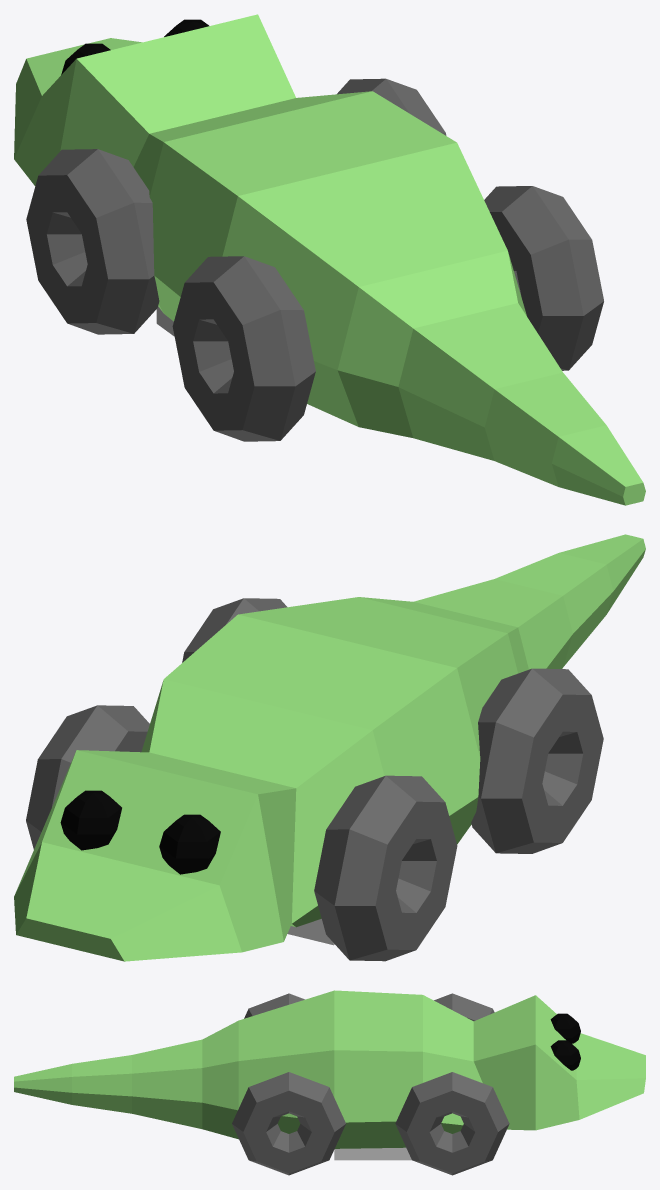
Rendered from lizard.gltf.
3 views of the same model, one above another, from view 1: azimuth 30°, elevation 25°; view 2: azimuth 150°, elevation 25°; view 3: azimuth 270°, elevation 25° (orthographic). The views are drawn at different scales.
Visible parts, largest first — view 1: Body, Wheels, Eyes; view 2: Body, Wheels, Eyes, Cube; view 3: Body, Wheels, Eyes, Cube.
Part boxes in pixels (box(x1,y1,x2,y2)): Body: box(14, 14, 645, 505); Wheels: box(26, 78, 603, 441); Eyes: box(61, 19, 208, 74); Body: box(14, 534, 645, 961); Wheels: box(26, 598, 603, 961); Eyes: box(60, 790, 220, 874); Cube: box(287, 919, 334, 945); Body: box(14, 990, 645, 1148); Wheels: box(232, 993, 509, 1175); Eyes: box(550, 1013, 580, 1070); Cube: box(334, 1147, 411, 1160).
Bounding box in the file's own units: 3.94 × 2.25 × 11.06.
